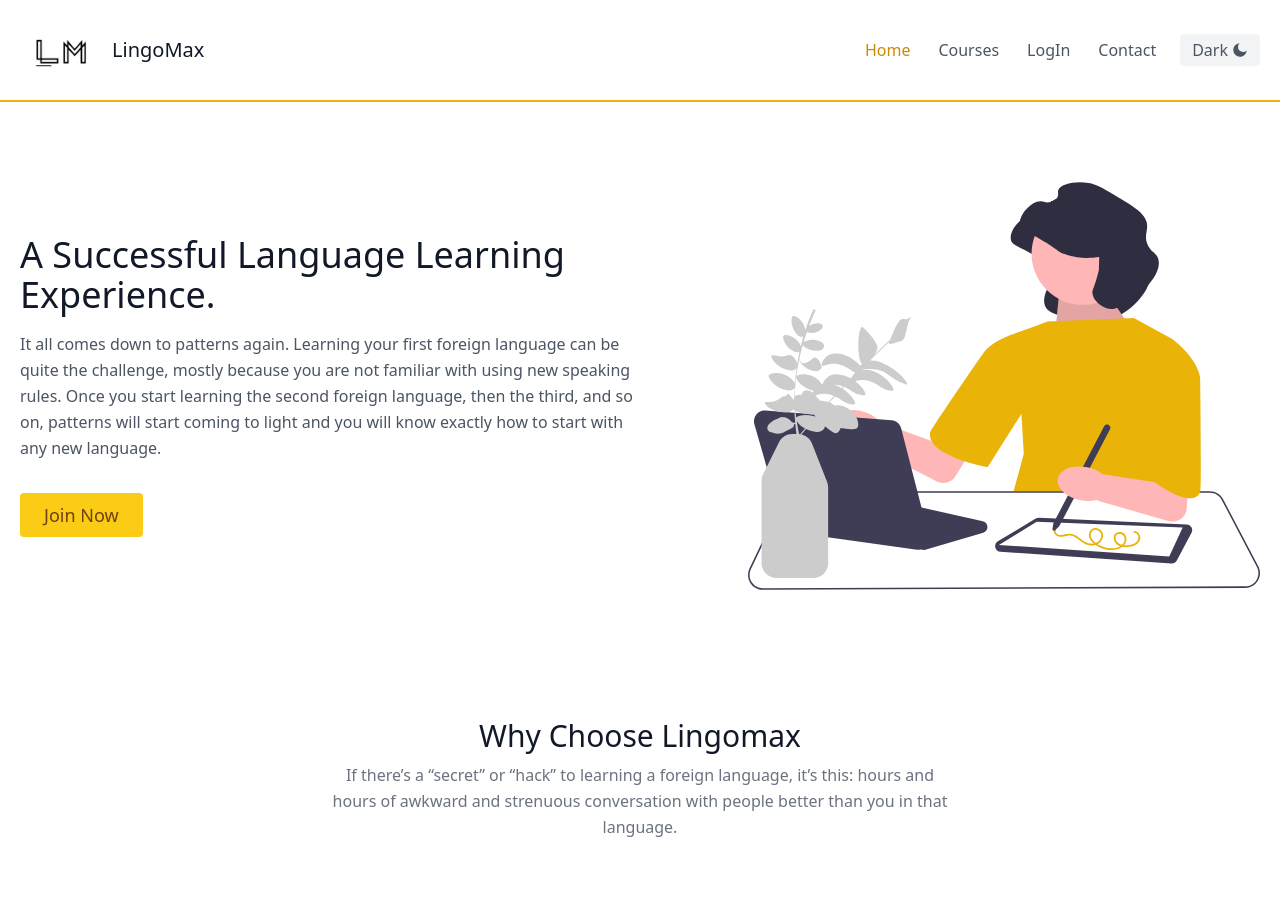
Test: Navbar Suite › Check Login Navigation
The image size is (1280, 900).
Check: the heading "A Successful Language Learning Experience." is shown, box [20, 235, 584, 315]
Step 1. Click the link "LogIn" → (1049, 50), box [1027, 39, 1070, 61]
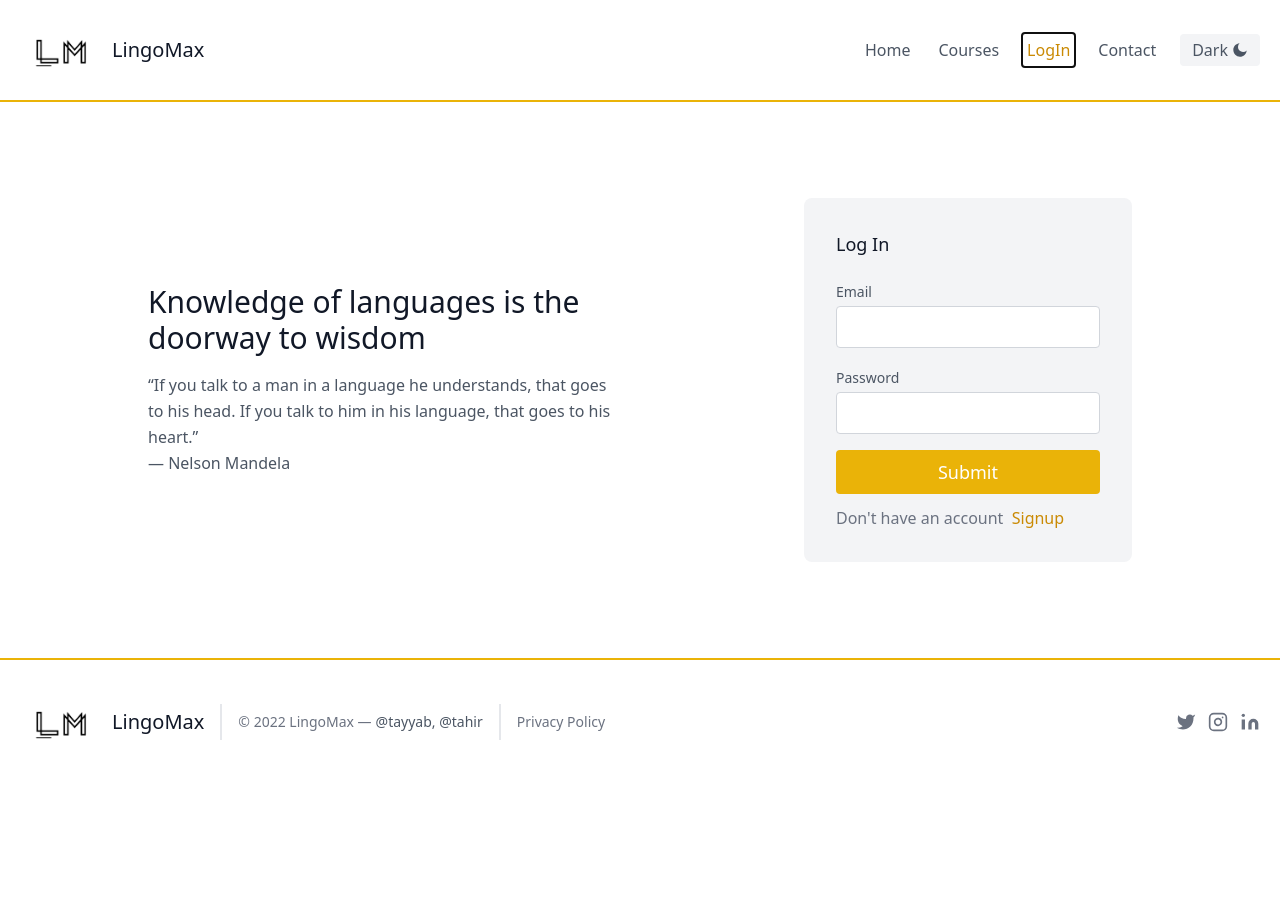
Check: the heading "Knowledge of languages is the doorway to wisdom" is shown, box [148, 284, 620, 356]
